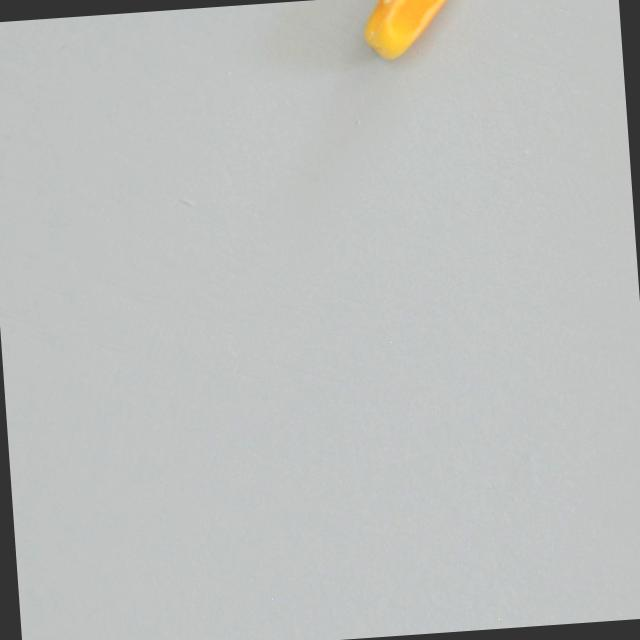entero: (358, 0, 480, 61)
